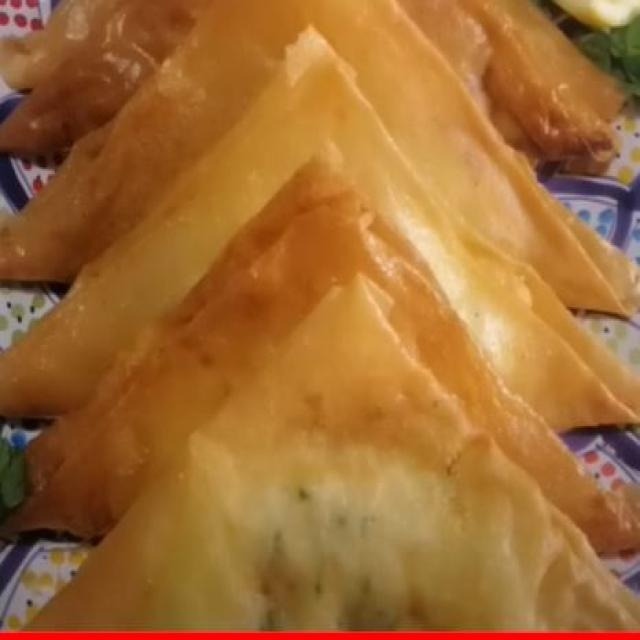brik: (0, 31, 597, 404), (0, 288, 625, 640)
